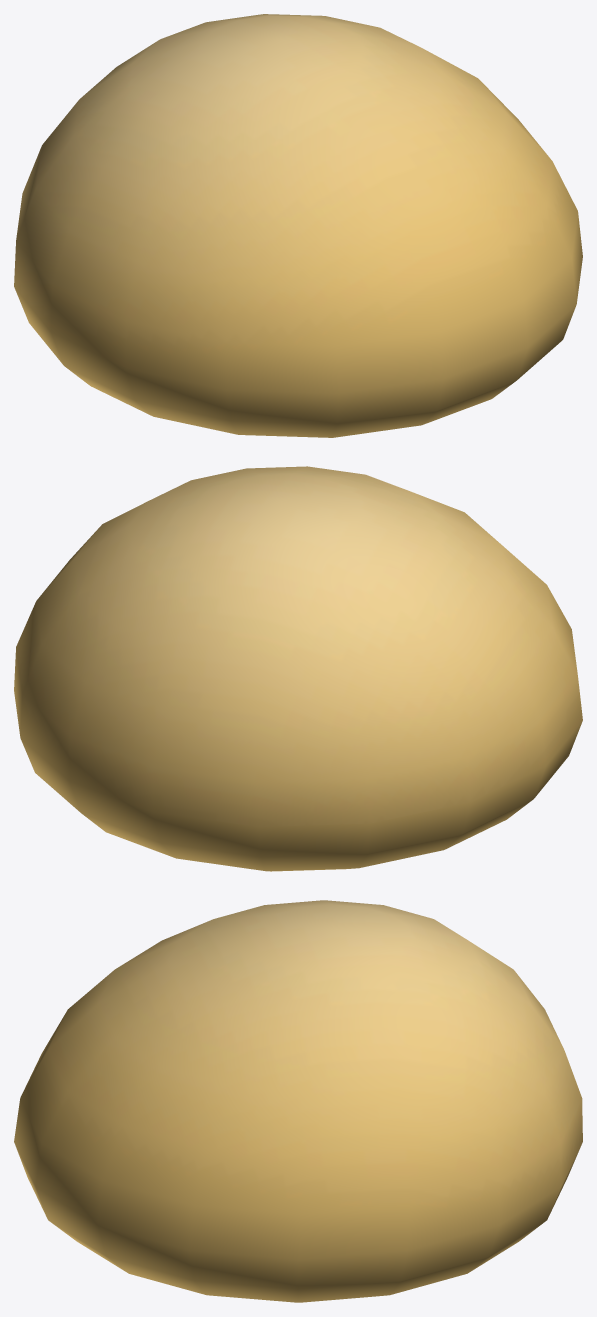
The model's file is Pizza_Dough.fbx.
3 renders of one model, top to bottom at view 1: azimuth 30°, elevation 25°; view 2: azimuth 150°, elevation 25°; view 3: azimuth 270°, elevation 25°, orthographic. The views are drawn at different scales.
Visible parts, largest first — view 1: Pizza_Dough; view 2: Pizza_Dough; view 3: Pizza_Dough.
Boxes of the visible parts, x1,y1,x2,y2 form: Pizza_Dough: (14, 14, 582, 437); Pizza_Dough: (14, 466, 582, 871); Pizza_Dough: (14, 900, 582, 1302).
Bounding box in the file's own units: 0.6302 × 0.3656 × 0.6434.
